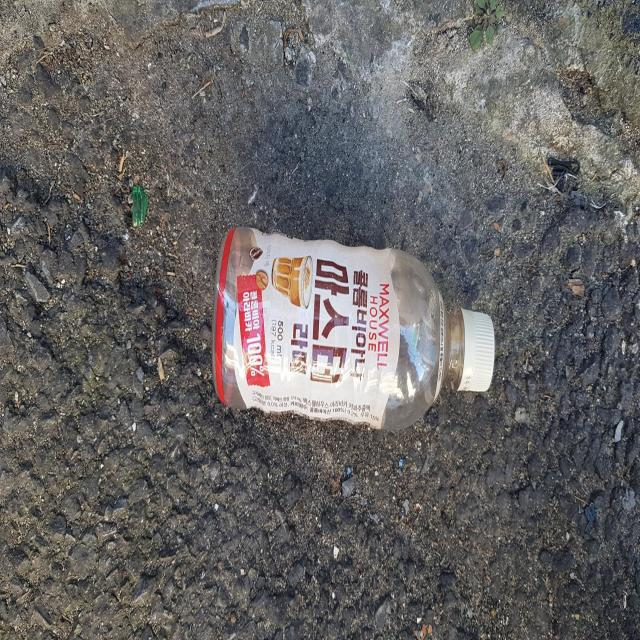plastic: (212, 226, 495, 430)
